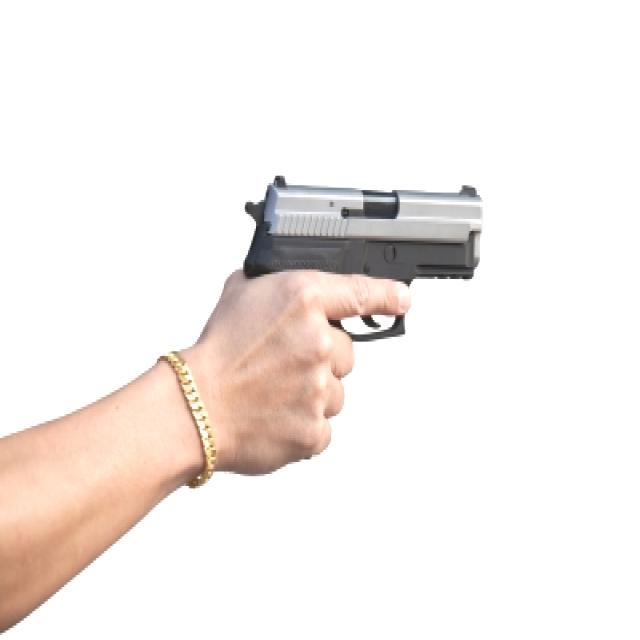pistol: (238, 164, 482, 484)
